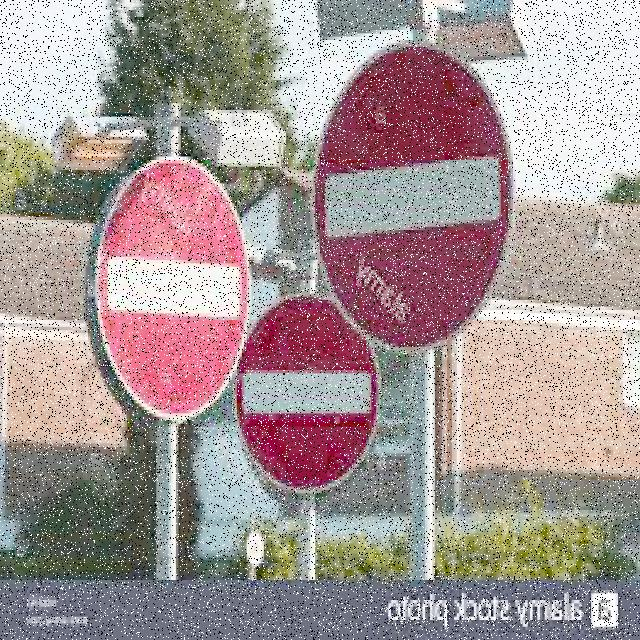no entry: (318, 40, 513, 353), (95, 153, 252, 420), (237, 294, 381, 494)
